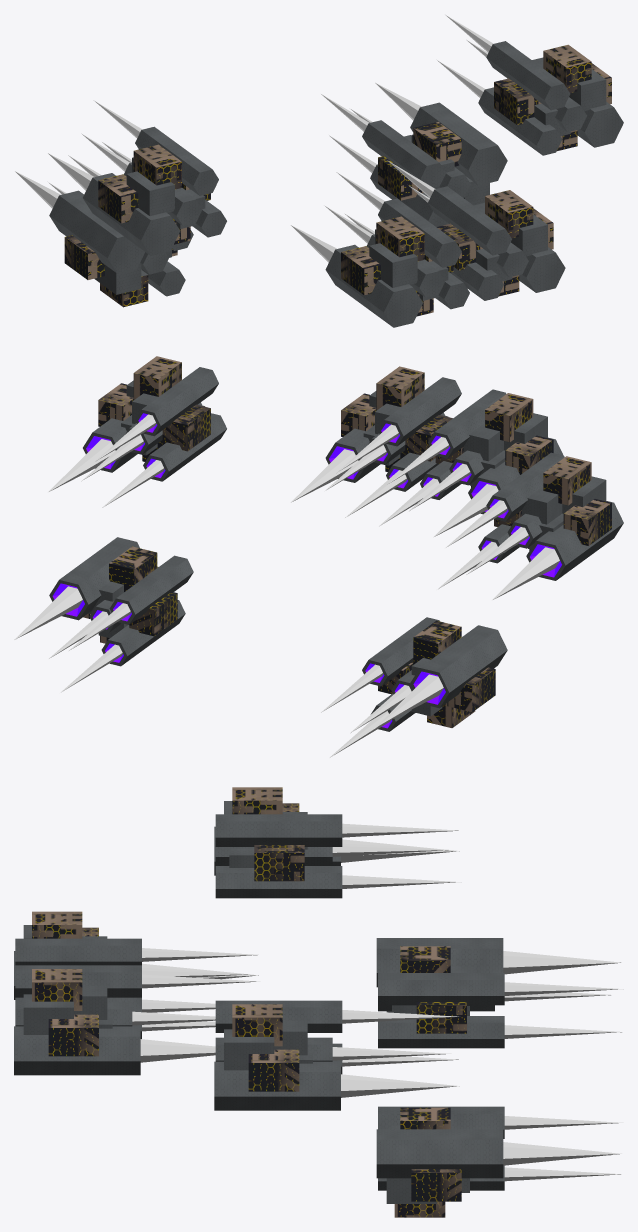
File: wormhole-engines.fbx
3 views of the same model, one above another, from view 1: azimuth 30°, elevation 25°; view 2: azimuth 150°, elevation 25°; view 3: azimuth 270°, elevation 25° (orthographic). The views are drawn at different scales.
Parts seen in each view (by area): view 1: Cube.079, Cube.083, Cube.081, Cube.080, Cube.082, Cube.084; view 2: Cube.079, Cube.081, Cube.083, Cube.080, Cube.082, Cube.084; view 3: Cube.079, Cube.081, Cube.083, Cube.080, Cube.082, Cube.084.
Boxes of the visible parts, x1,y1,x2,y2 form: Cube.079: (83,41,623,255); Cube.083: (325,186,565,327); Cube.081: (49,102,507,307); Cube.080: (48,15,493,190); Cube.082: (15,83,421,208); Cube.084: (291,160,435,262); Cube.079: (83,356,623,580); Cube.081: (49,537,507,731); Cube.083: (325,366,563,514); Cube.080: (48,414,559,600); Cube.082: (14,586,443,757); Cube.084: (290,424,498,537); Cube.079: (214,787,342,1110); Cube.081: (376,938,504,1217); Cube.083: (14,911,141,1075); Cube.080: (332,823,460,1097); Cube.082: (503,951,623,1181); Cube.084: (132,948,260,1062).
Size of the model in its own units: 1555 by 619 by 1543.
